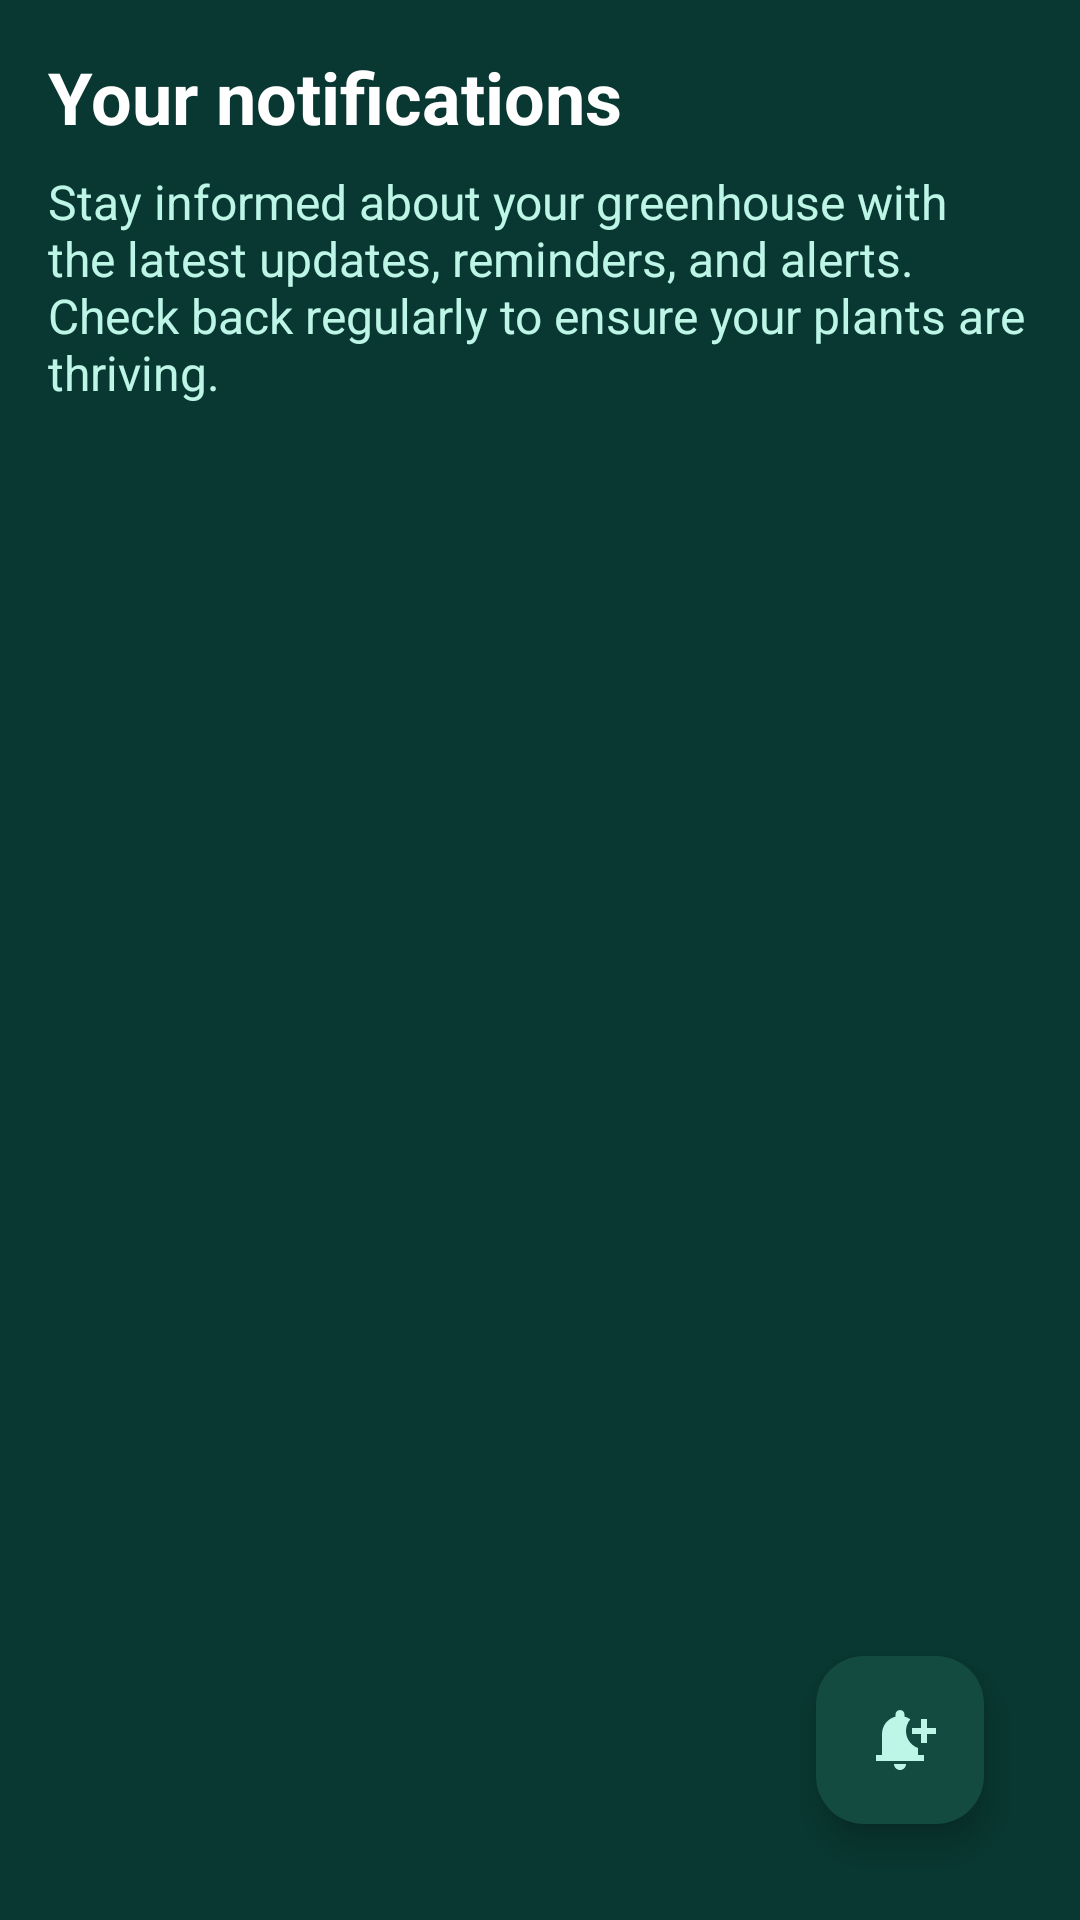

Icon bounding boxes for this 1080 x 1920 phone screenshot, format bbox=(x1, y1, x2, y2):
Add Notification: bbox=(816, 1656, 984, 1824)
